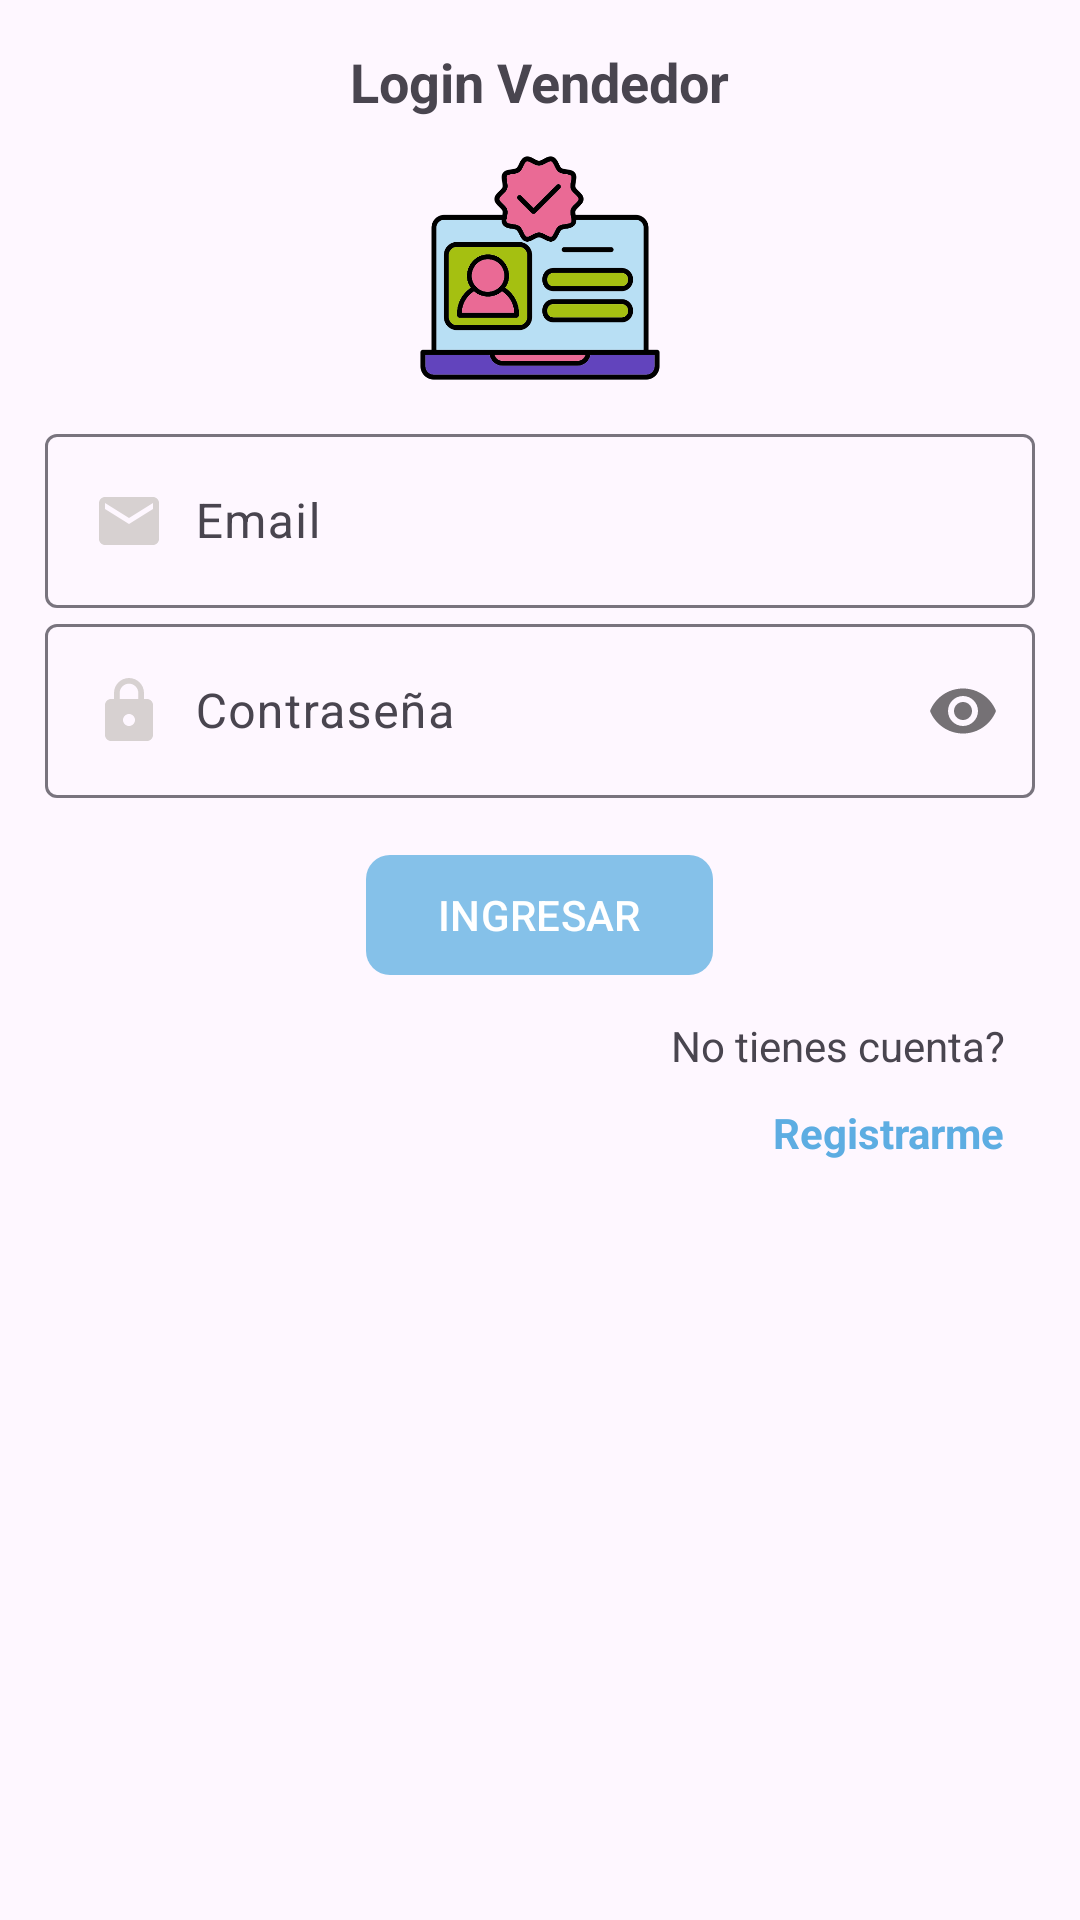

Icons on this 1080 × 1920 Android screen, each with the point to tap as (x,y):
registro vendedor: (540,268)
